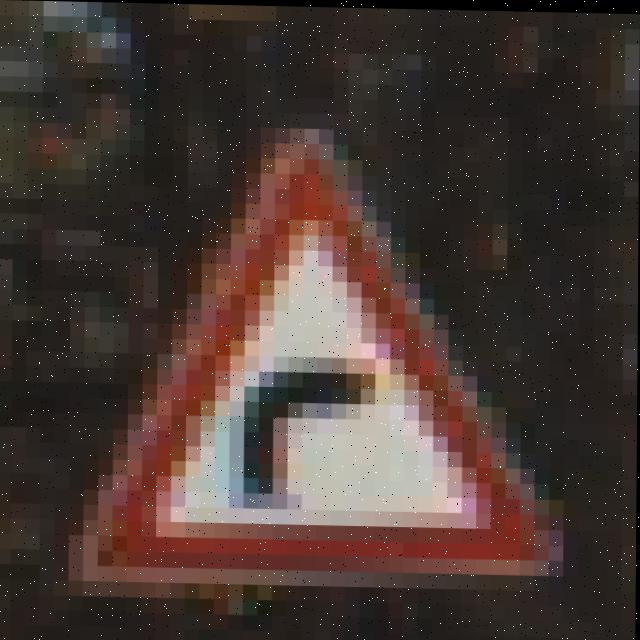right_turn: (87, 138, 587, 640)
